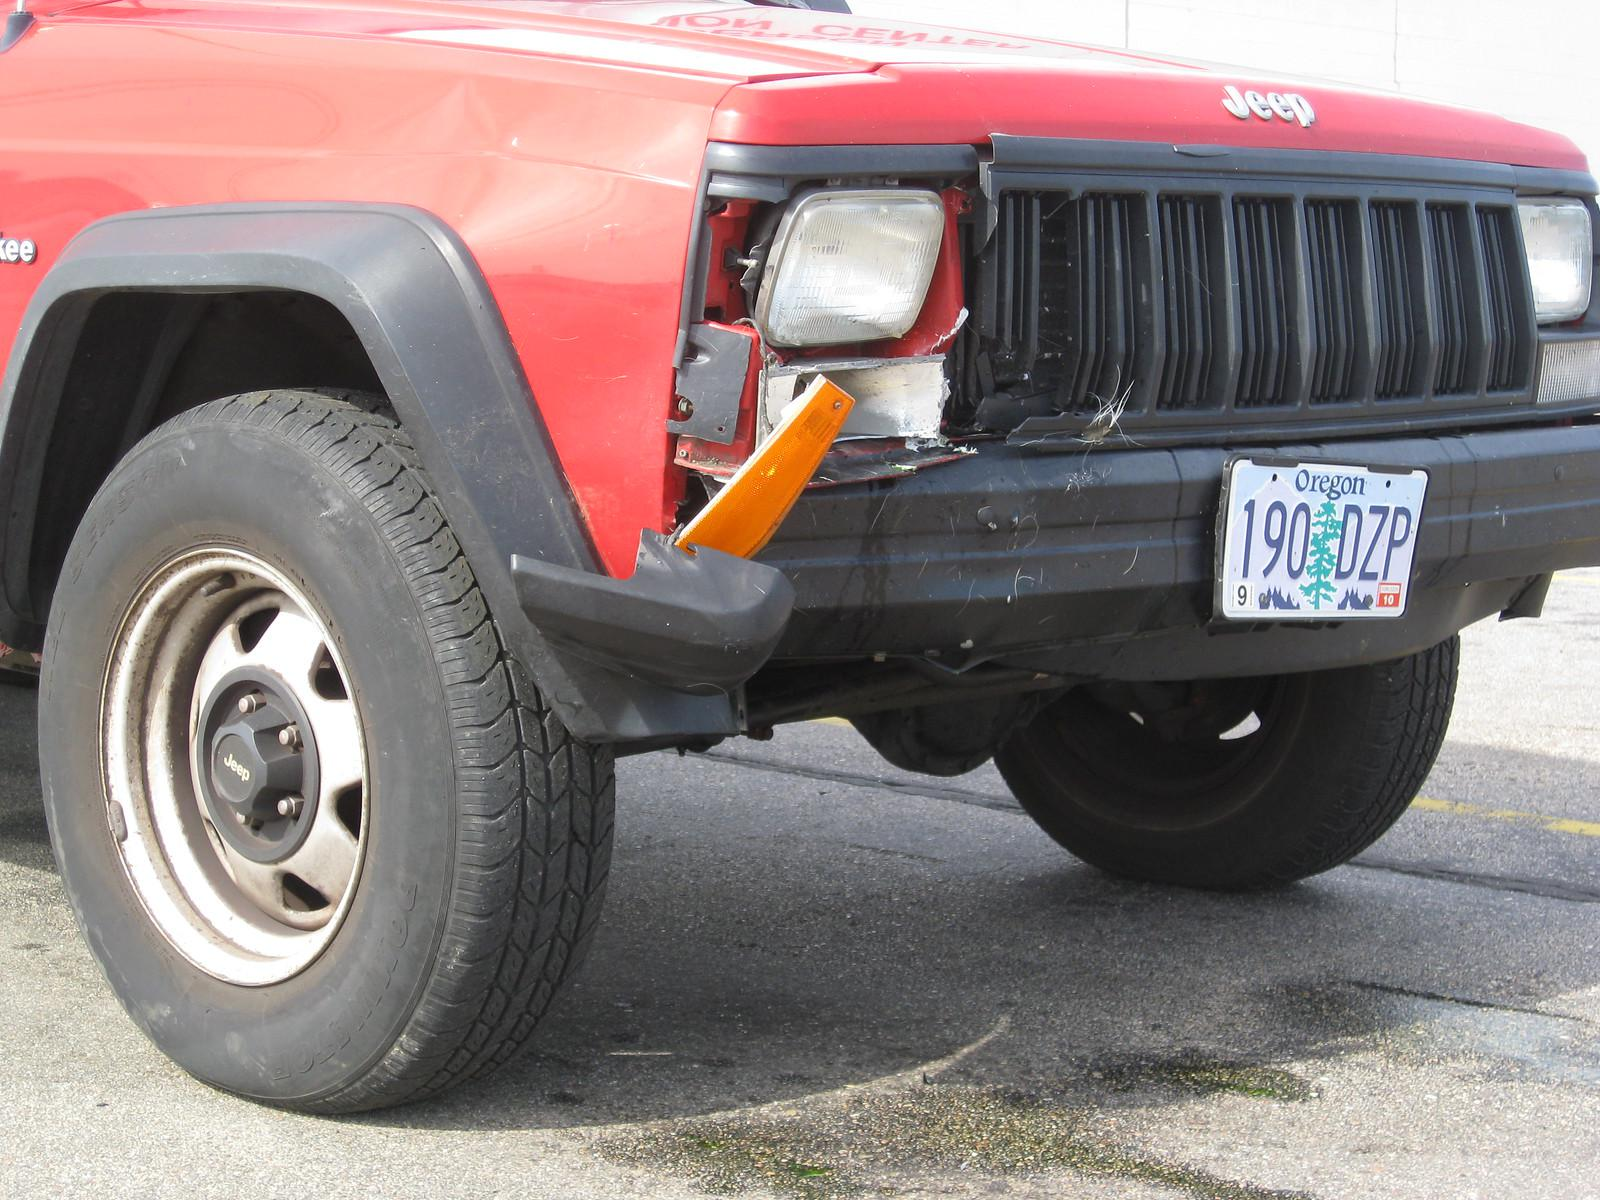Headlight-Damage: (648, 93, 1013, 603)
